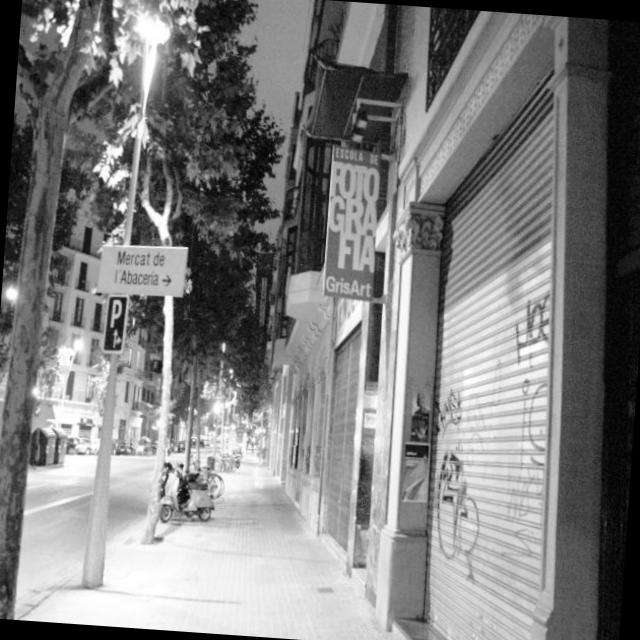Bicycle: (196, 448, 230, 501)
Motorcycle: (153, 449, 224, 526)
